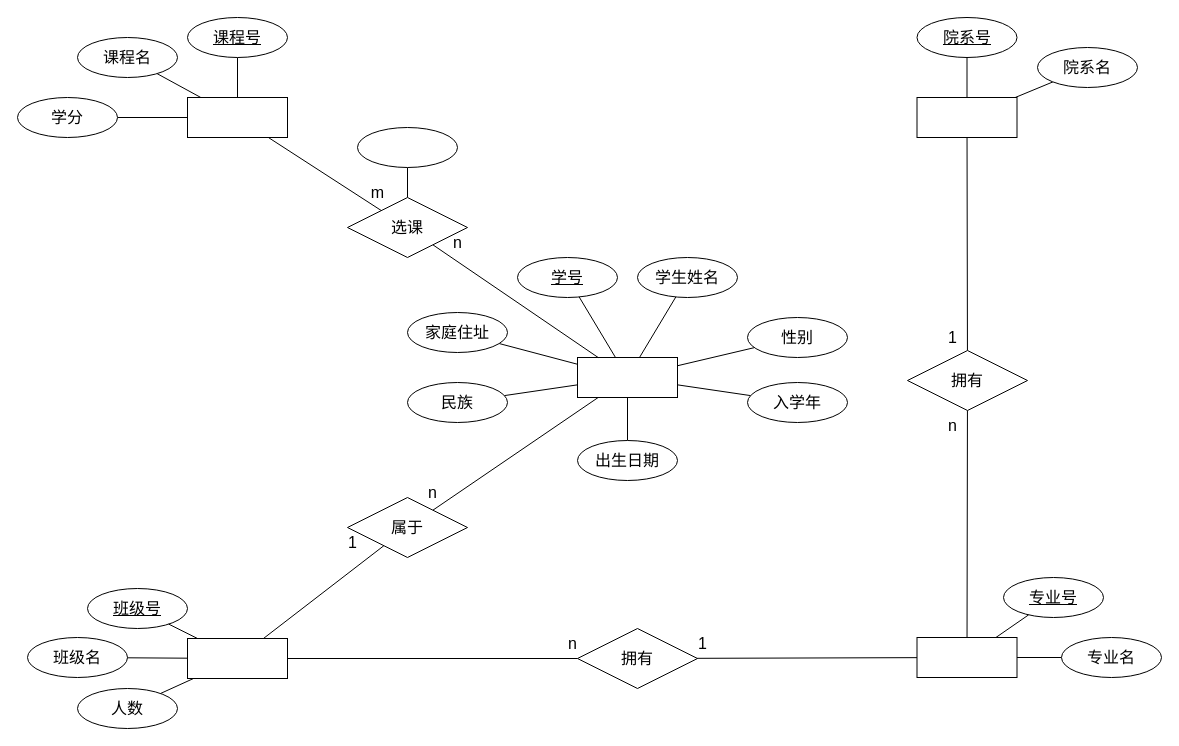
Some shapes in this 1179 by 746 pixel diagram are drawn without their labels. The centre of each missing label's shape, as x and y in pixels:
"专业" goes at point 966,657.
"学生" goes at point 627,377.
"成绩" goes at point 407,147.
"班级" goes at point 237,658.
"课程" goes at point 237,117.
"院系" goes at point 966,117.
